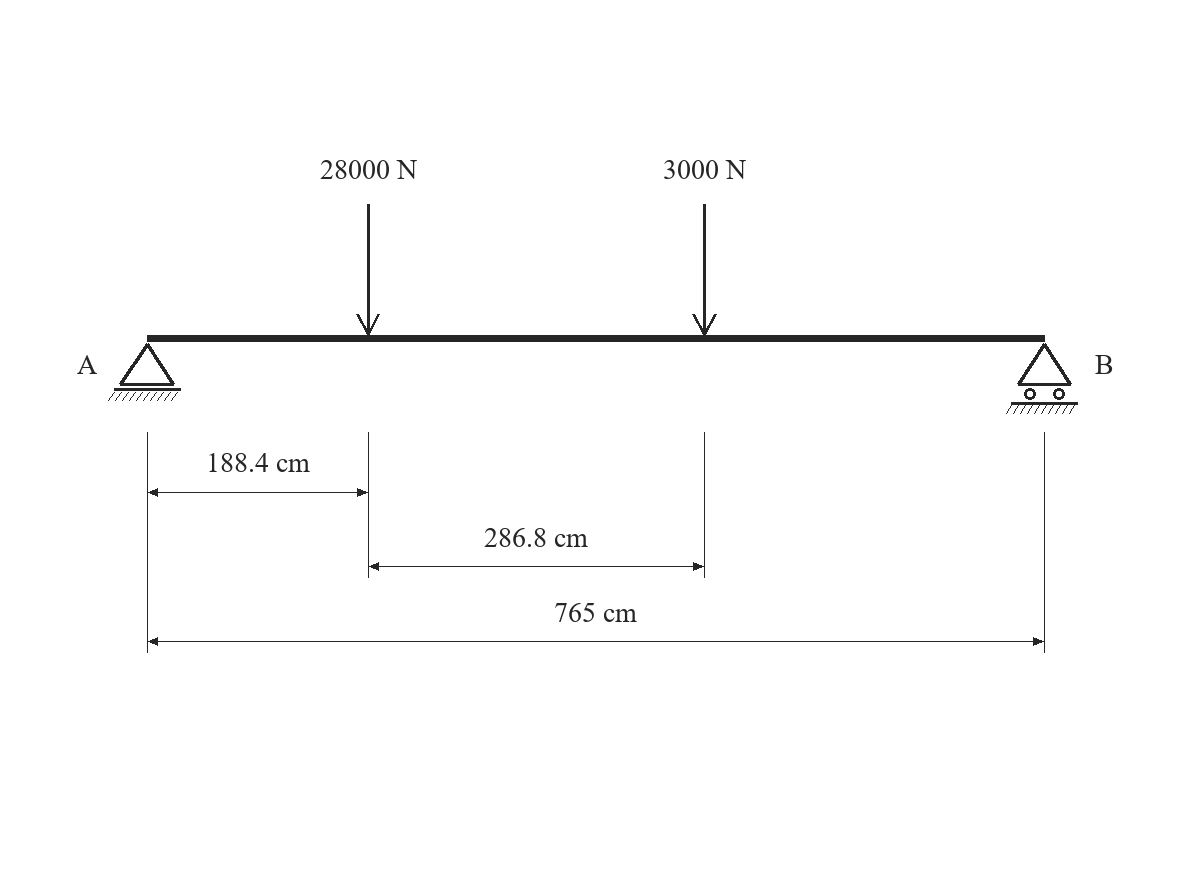pin_support: (108, 343, 181, 401)
point_load: (692, 204, 717, 335), (356, 204, 380, 335)
roller_support: (1006, 343, 1078, 414)
